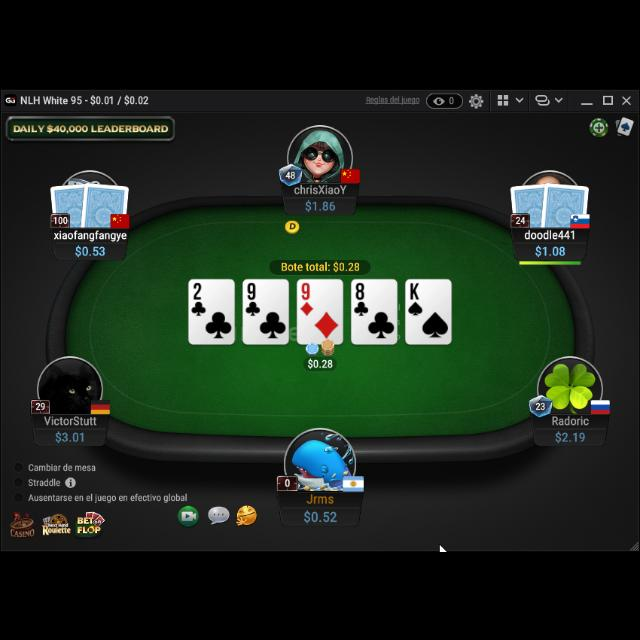2c: (190, 281, 208, 317)
8c: (352, 279, 370, 317)
9c: (243, 281, 260, 317)
9d: (300, 282, 314, 316)
Ks: (406, 280, 424, 316)
bet_text: (306, 356, 334, 368)
card_back: (540, 178, 592, 232), (79, 179, 131, 229), (48, 179, 94, 229), (508, 180, 554, 228)
dealer: (284, 216, 300, 234)
pot_text: (280, 259, 362, 271)
stack_text: (301, 506, 339, 524), (534, 242, 566, 258), (554, 428, 588, 442), (54, 428, 86, 442), (74, 243, 106, 257), (303, 198, 337, 210)
